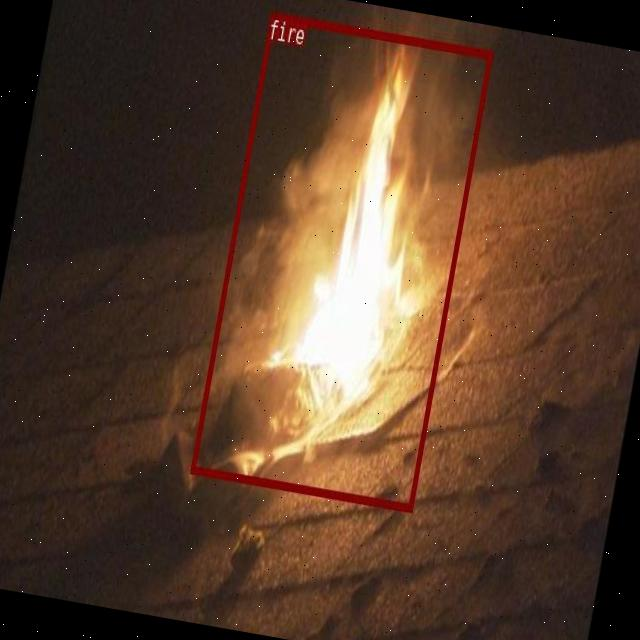fire: (188, 9, 492, 510)
